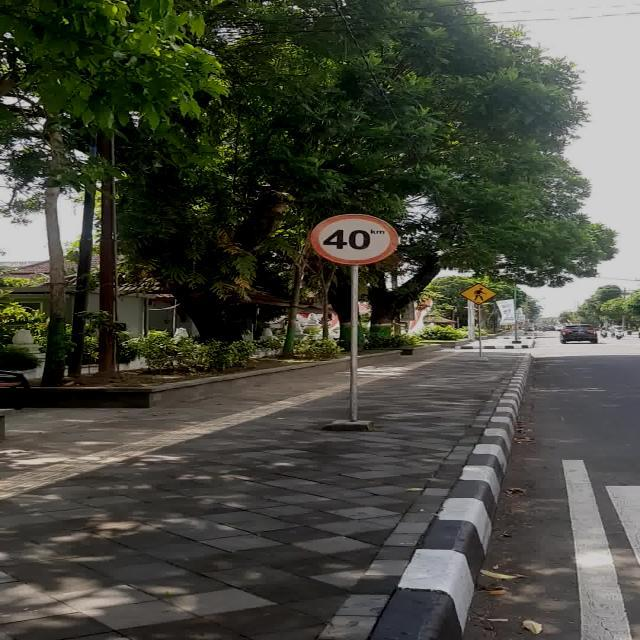Kecepatan Maks. 40 km: (309, 213, 399, 265)
